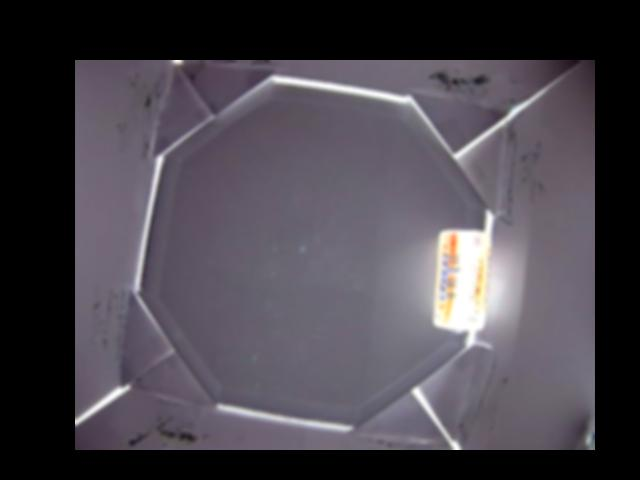Battery: (434, 229, 489, 334)
